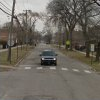crosswalk: (23, 66, 91, 74)
